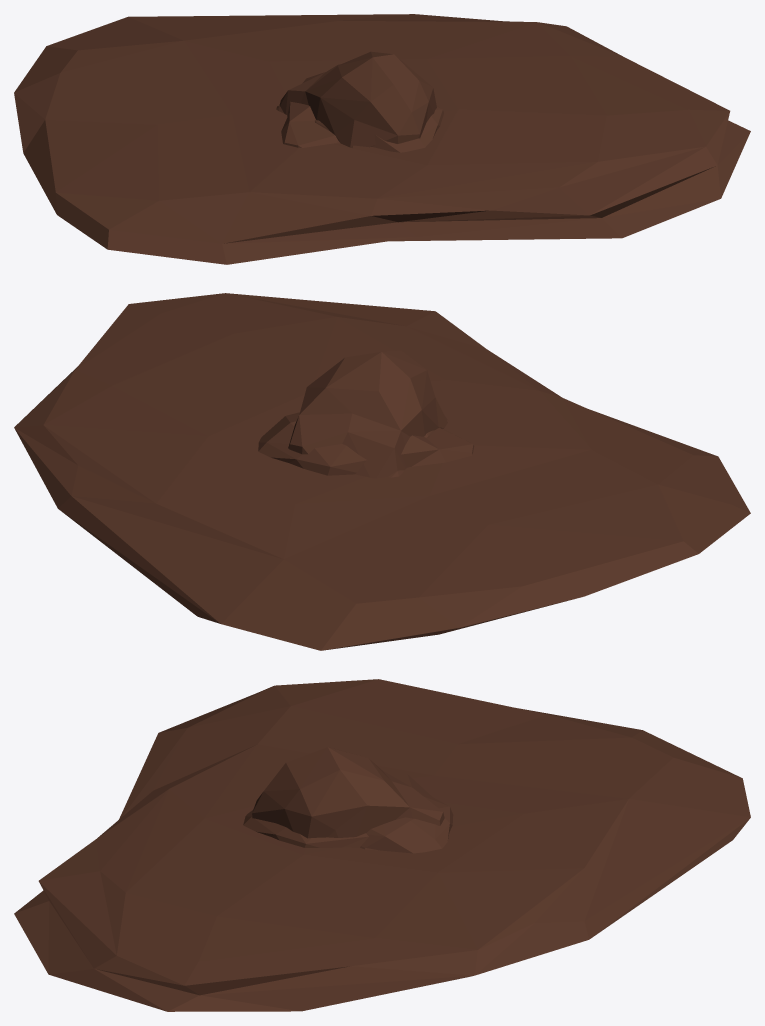
File: kamienie_1.fbx
3 views of the same model, one above another, from view 1: azimuth 30°, elevation 25°; view 2: azimuth 150°, elevation 25°; view 3: azimuth 270°, elevation 25° (orthographic). The views are drawn at different scales.
Visible parts, largest first — view 1: Cube.050, Cube.037, Cube.038, Cube.058; view 2: Cube.050, Cube.037, Cube.038; view 3: Cube.050, Cube.037, Cube.038, Cube.058.
Part boxes in pixels (<box>): Cube.050: <box>14,14,750,264</box>; Cube.037: <box>279,51,436,147</box>; Cube.038: <box>281,72,340,147</box>; Cube.058: <box>276,105,443,152</box>; Cube.050: <box>14,293,750,650</box>; Cube.037: <box>288,350,447,478</box>; Cube.038: <box>258,412,474,475</box>; Cube.050: <box>14,679,750,1011</box>; Cube.037: <box>252,747,444,838</box>; Cube.038: <box>360,792,453,853</box>; Cube.058: <box>243,810,368,847</box>.
Size of the model in its own units: 1719 by 409 by 1666.
